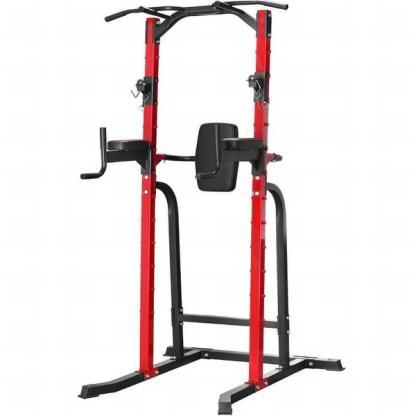chinning dipping: (82, 2, 341, 414)
